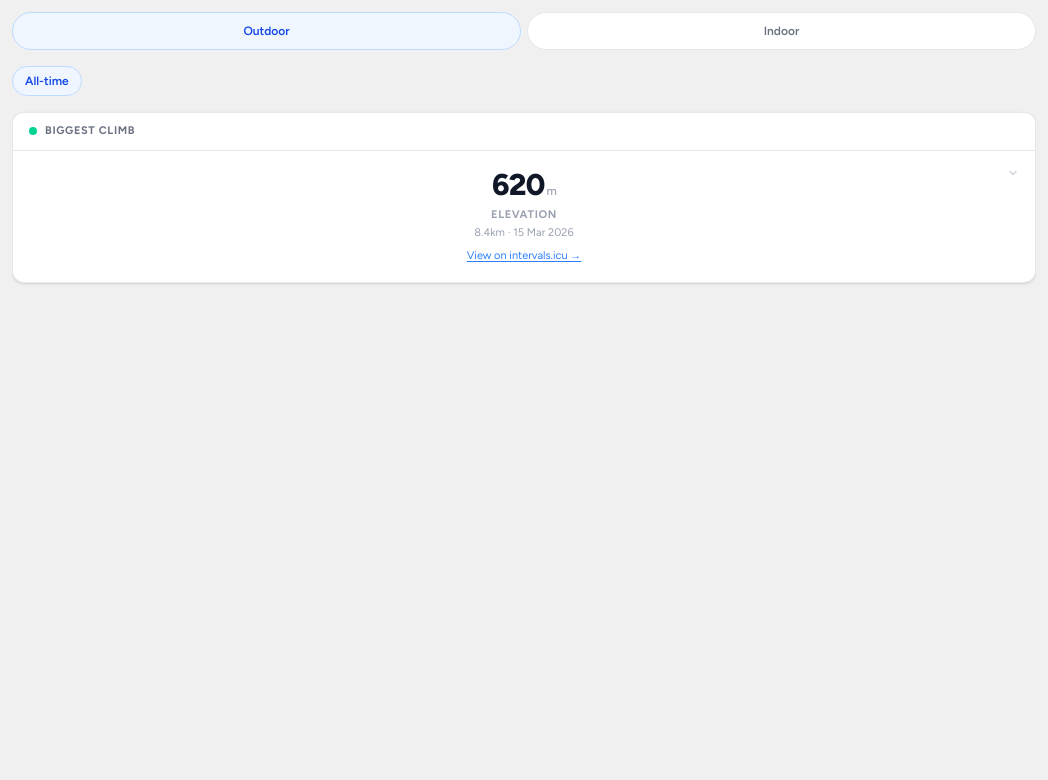
Test: AllTimeBestsTab › reveals 2nd and 3rd place when the expand toggle is clicked, and hides them again on a second click
The image size is (1048, 780).
Expected: the text "620" is shown, [492,166,544,202]
Expected: the text "580" is not shown
What coordinates should you click on to do the following:
click the button named "Show Elevation runners-up"
I would click on:
 (1013, 172)
Its box is [991,150,1035,194].
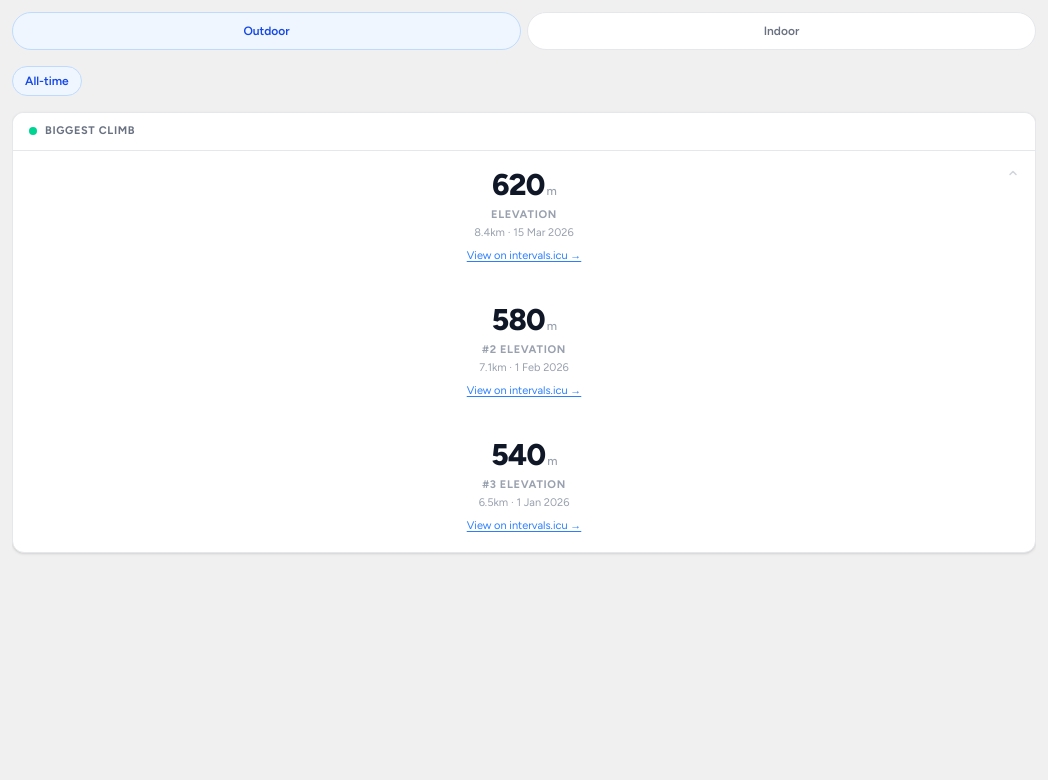
Now the text "580" is shown, box [492,300,545,338]
Now the text "540" is shown, box [491,436,545,472]
Now the text "#2 Elevation" is shown, box [482,342,566,356]
What coordinates should you click on to do the following:
click the button named "Hide Elevation runners-up"
I would click on:
 (1013, 172)
Its box is [991,150,1035,194].
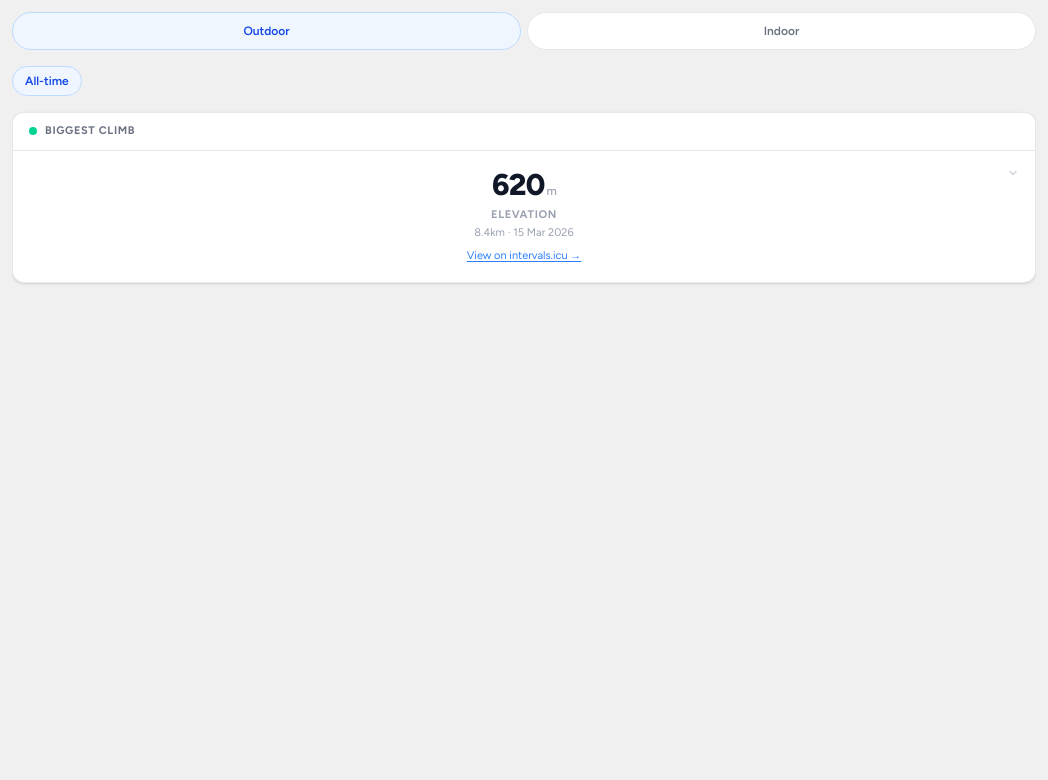
Now the text "580" is gone
